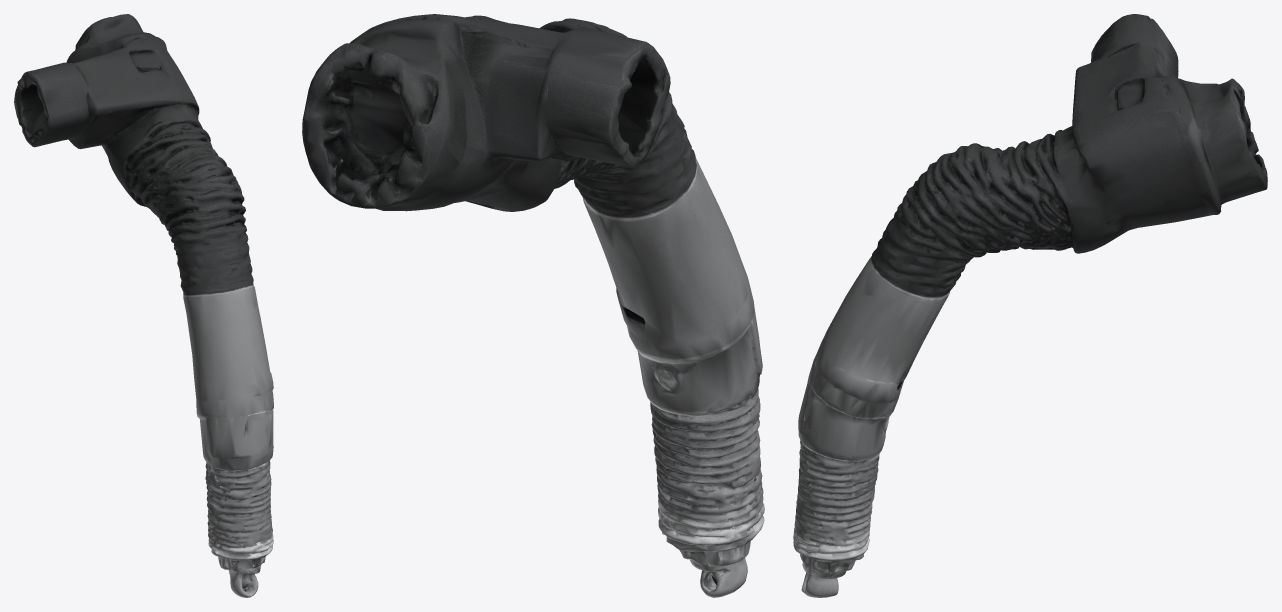
Rendered from ignition-coil.glb.
3 renders of one model, left to right at view 1: azimuth 30°, elevation 25°; view 2: azimuth 150°, elevation 25°; view 3: azimuth 270°, elevation 25°, orthographic. The views are drawn at different scales.
Bounding box in the file's own units: 0.7754 × 2 × 1.61.
1 material, 1 textured.
